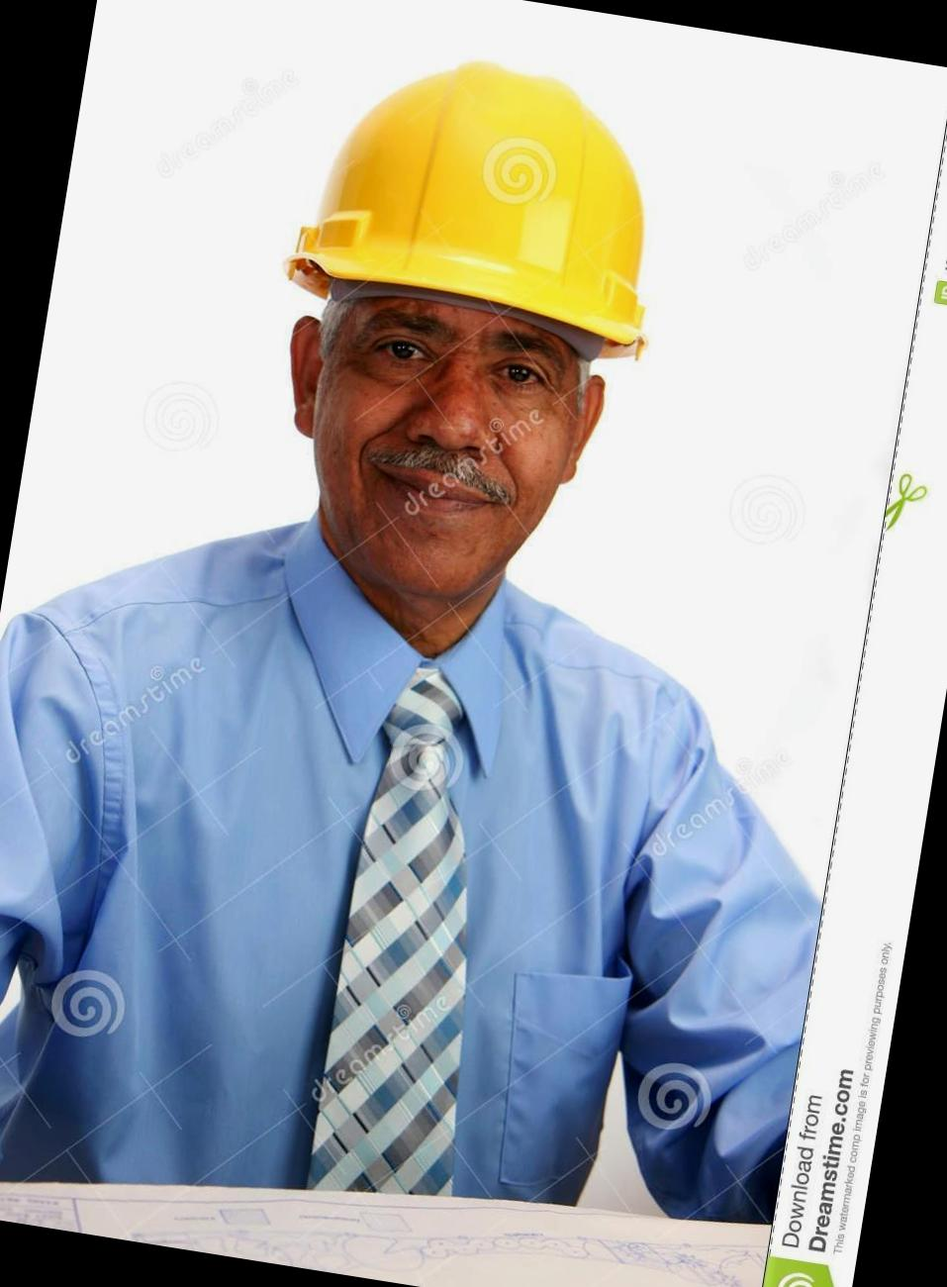helmet: (282, 27, 705, 339)
no_vest: (0, 515, 742, 1220)
person: (0, 0, 931, 1226)
